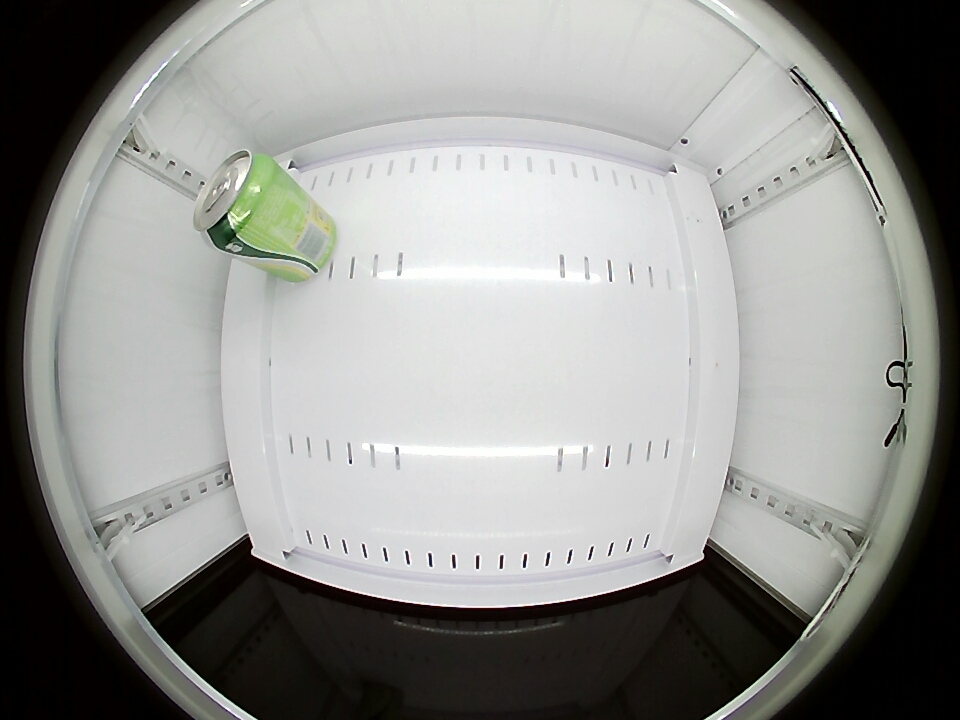quchenshixiangcao: (193, 150, 280, 251)
